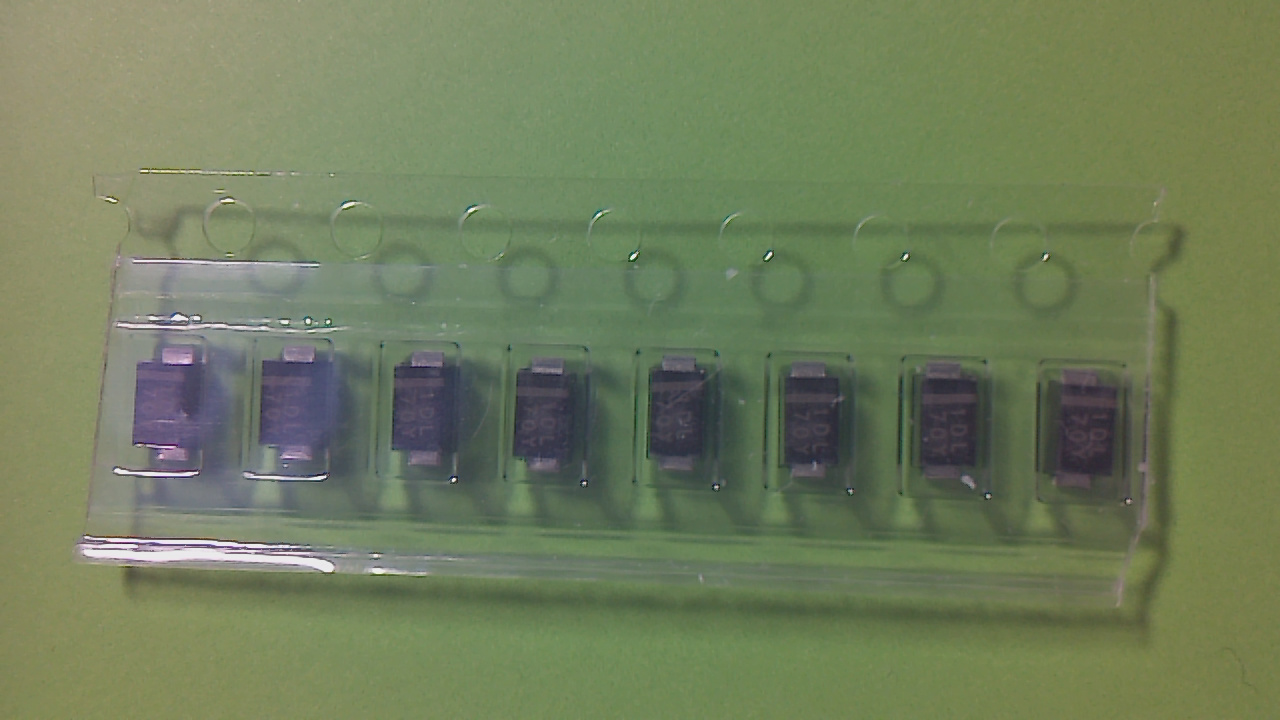Diode: (1048, 366, 1121, 496), (920, 362, 983, 493), (266, 345, 334, 463), (784, 361, 845, 485), (139, 353, 206, 465), (399, 355, 462, 473), (651, 358, 710, 480), (516, 360, 571, 475)
